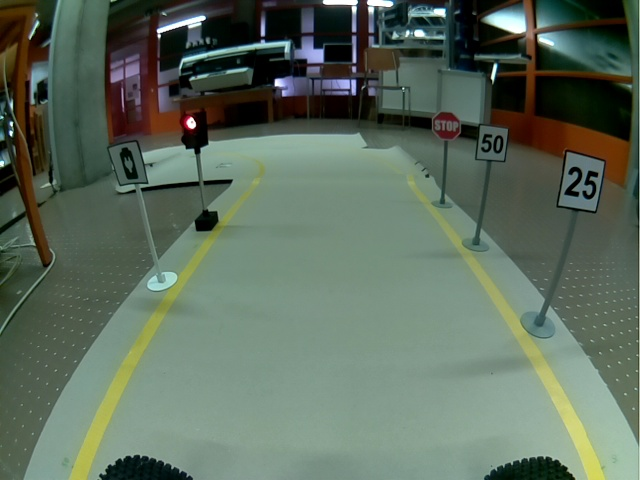battery: (106, 140, 149, 186)
speed25: (557, 148, 606, 213)
speed50: (475, 123, 509, 162)
stop: (432, 111, 461, 141)
trafficLightRed: (179, 112, 209, 149)
